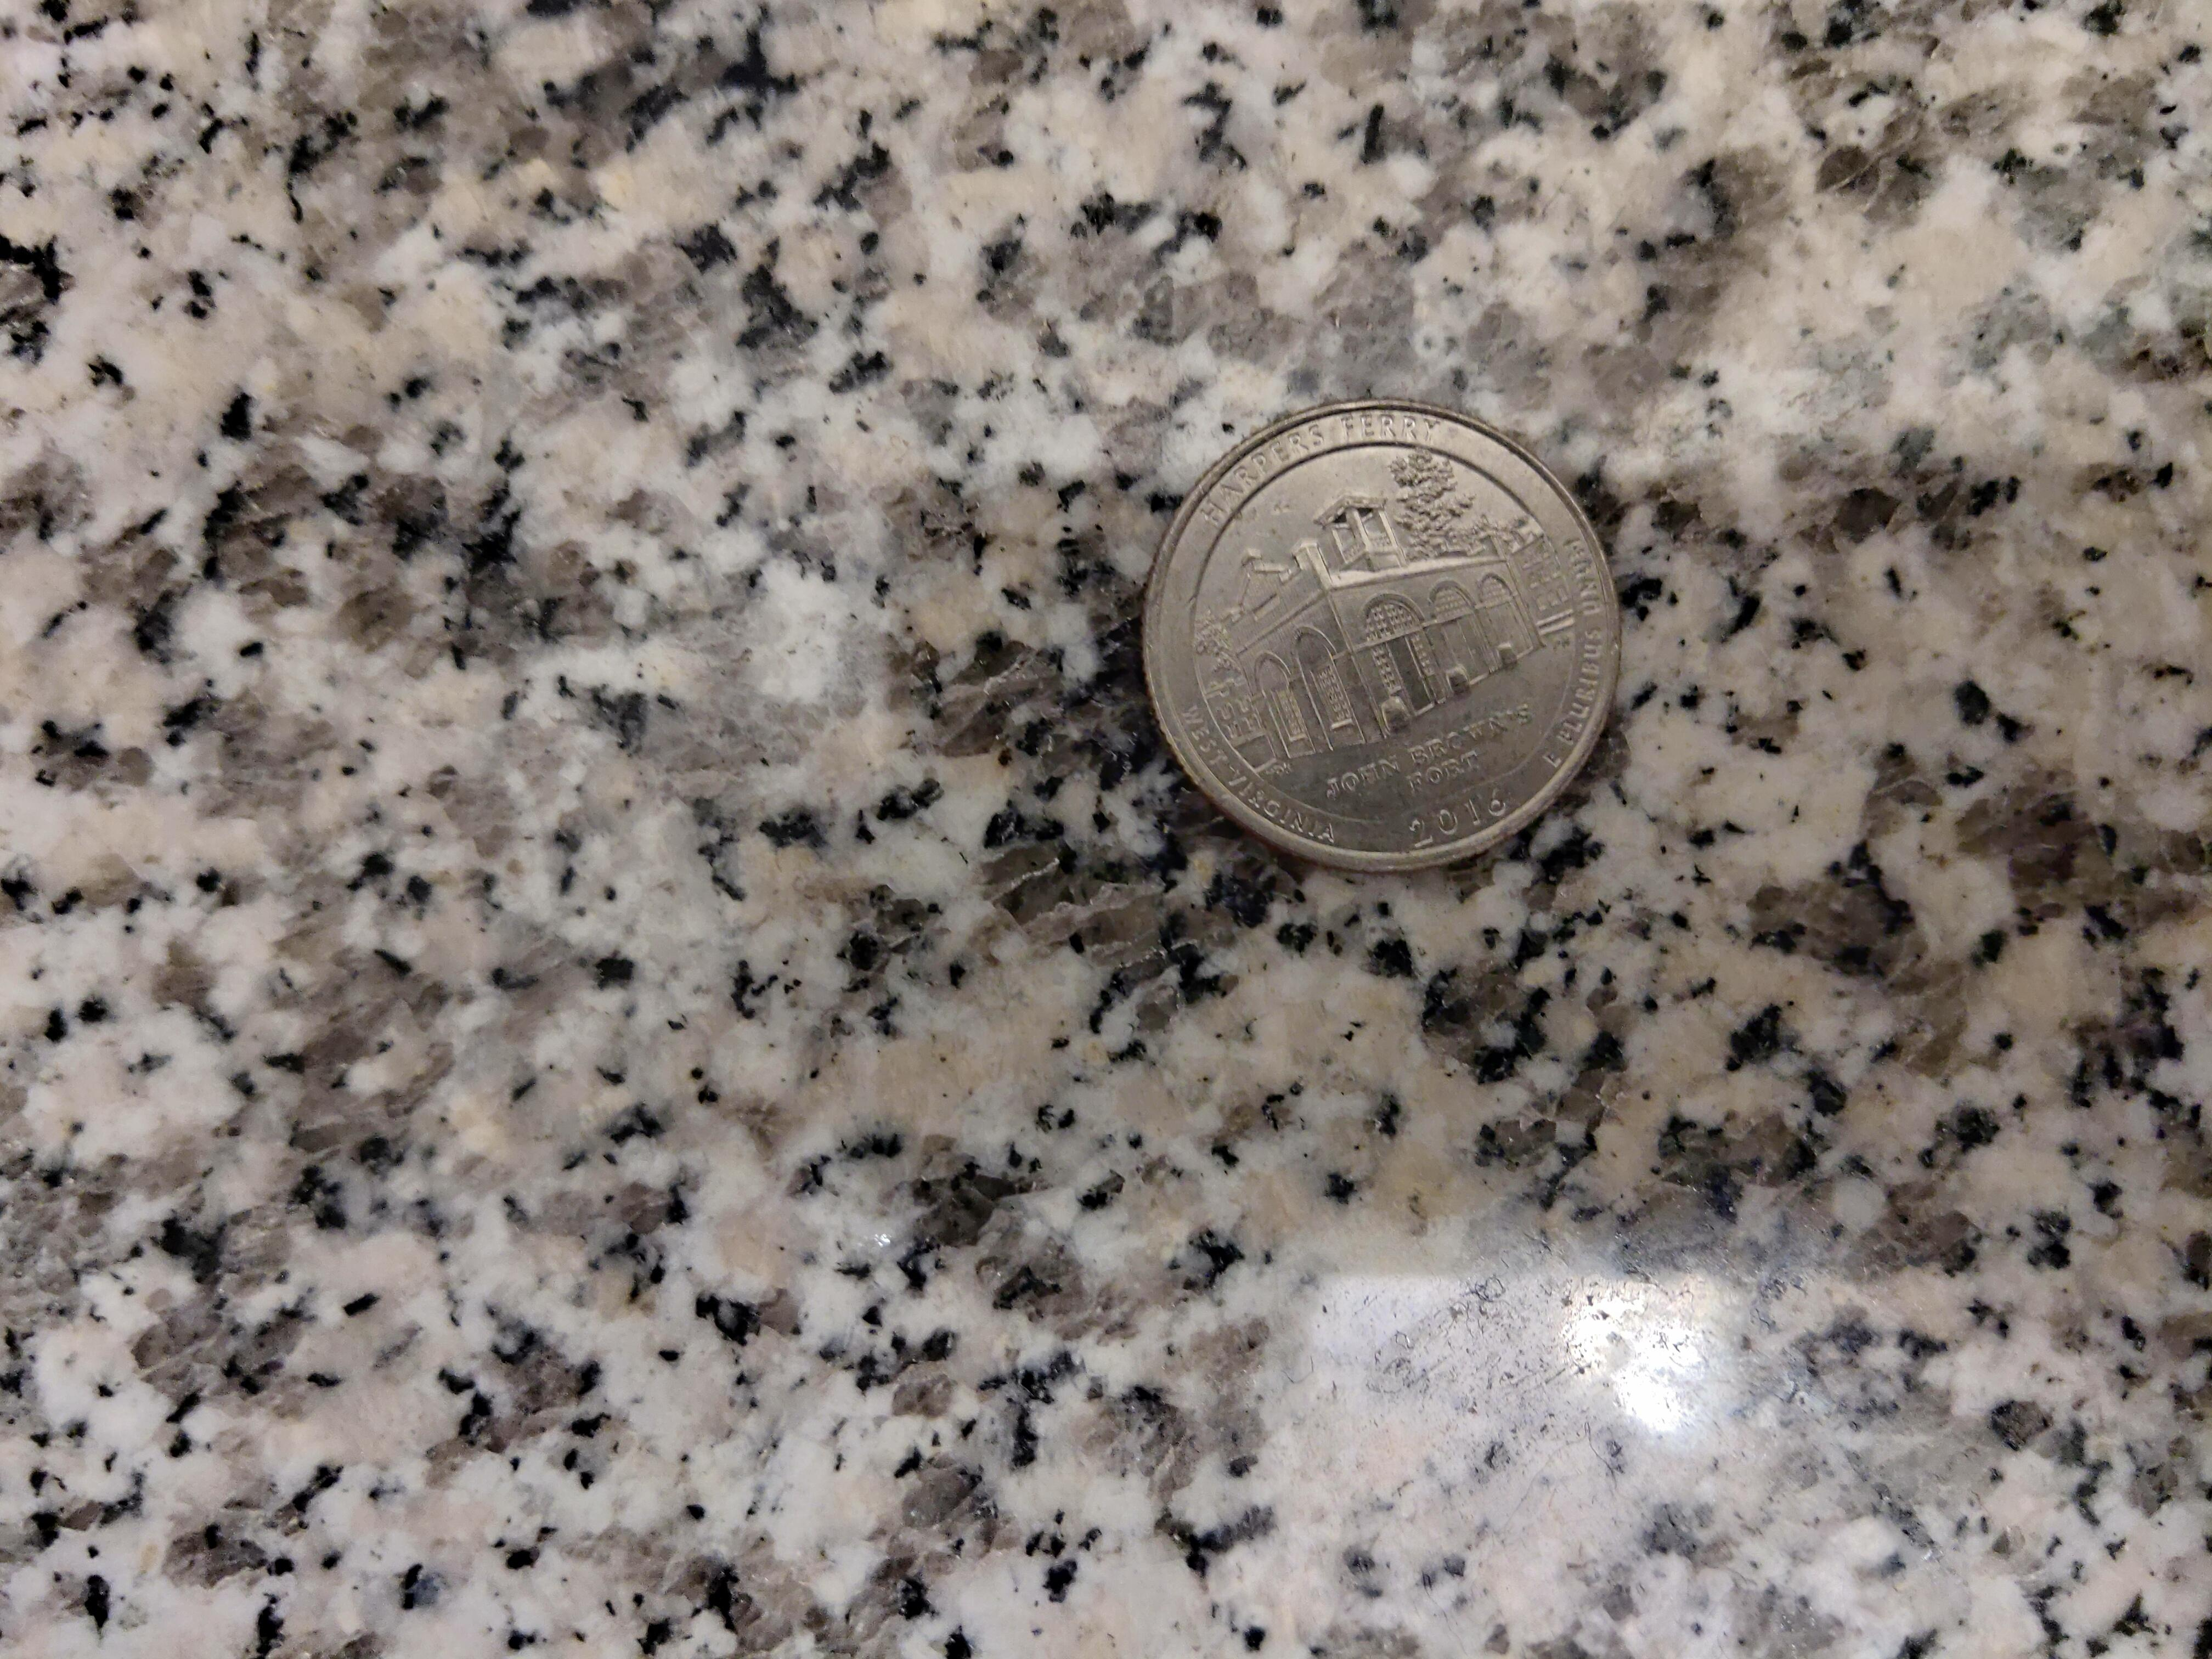Quarter: (1136, 396, 1625, 875)
